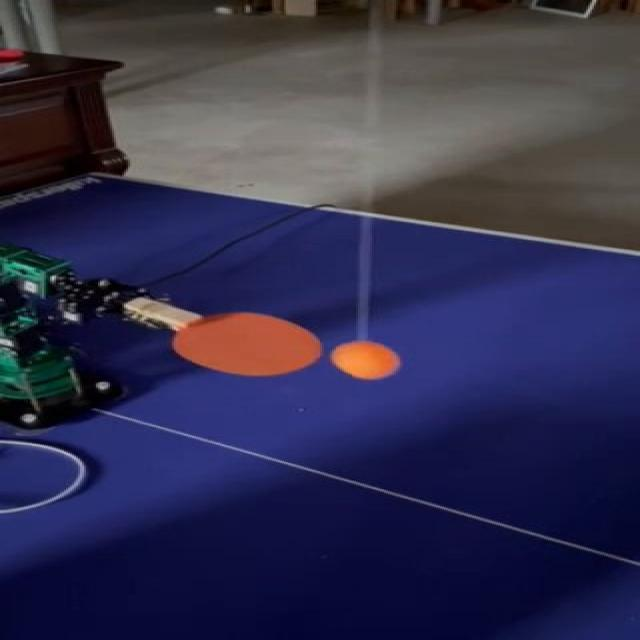ping-pong-ball: (334, 342, 398, 377)
